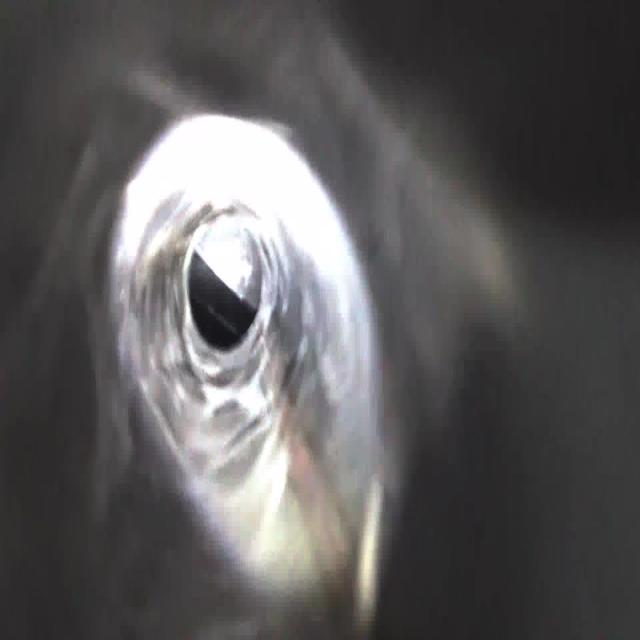crack: (129, 277, 186, 347), (213, 393, 261, 460), (151, 364, 206, 422), (265, 287, 301, 371)
